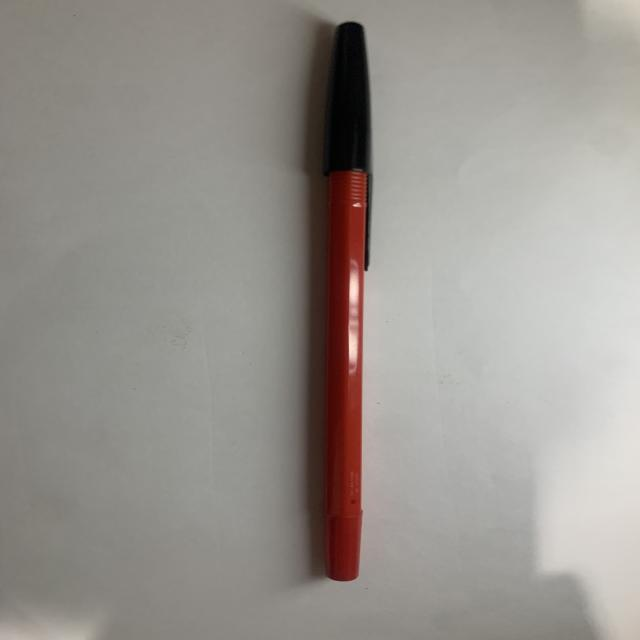Pulpen: (294, 20, 404, 601)
